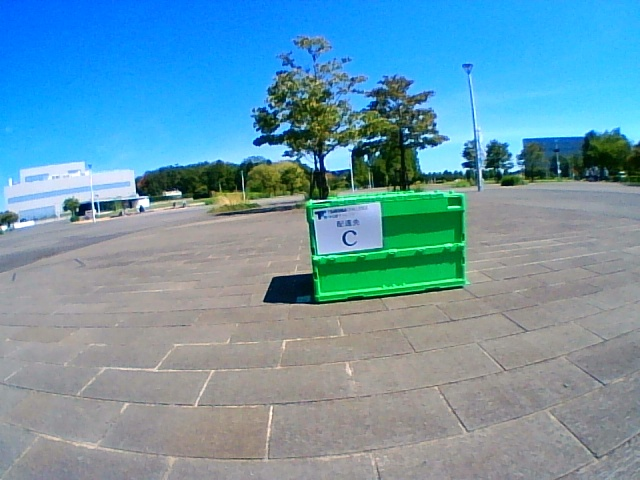green_box: (306, 190, 466, 302)
tag_c: (324, 210, 373, 249)
